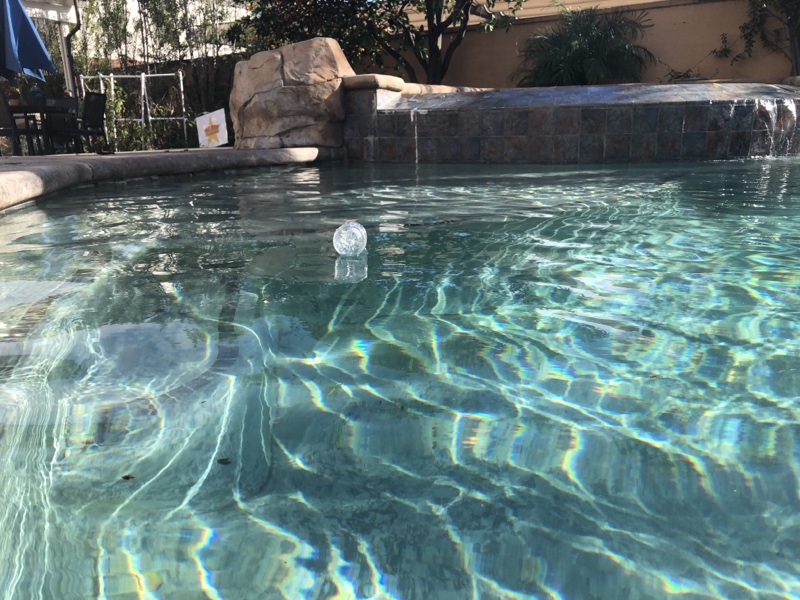Plastic Bottle: (331, 218, 367, 260)
